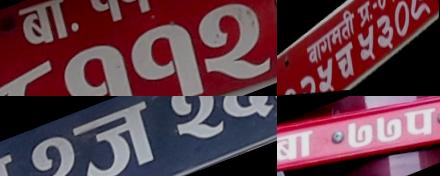0: (13, 0, 76, 53), (392, 0, 414, 45), (281, 79, 304, 96), (374, 0, 388, 16)
1: (187, 0, 277, 96), (383, 0, 398, 10)
2: (156, 96, 234, 159), (18, 126, 94, 176), (298, 66, 320, 95)
3: (121, 15, 217, 96), (53, 35, 149, 96), (83, 0, 128, 29), (374, 9, 398, 60), (111, 0, 159, 22)
4: (249, 96, 277, 121)
5: (355, 22, 380, 72), (314, 54, 340, 94)
6: (202, 96, 277, 141)
7: (370, 110, 409, 147), (342, 115, 379, 152)
9: (406, 0, 432, 32), (153, 0, 212, 9)
ba: (277, 123, 318, 168), (0, 148, 36, 176), (305, 36, 324, 72)
cha: (332, 37, 360, 91)
ja: (63, 96, 173, 176)
pa: (0, 56, 84, 96), (400, 99, 440, 145)
